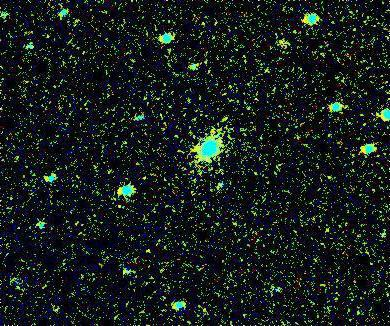star: (269, 28, 299, 58)
